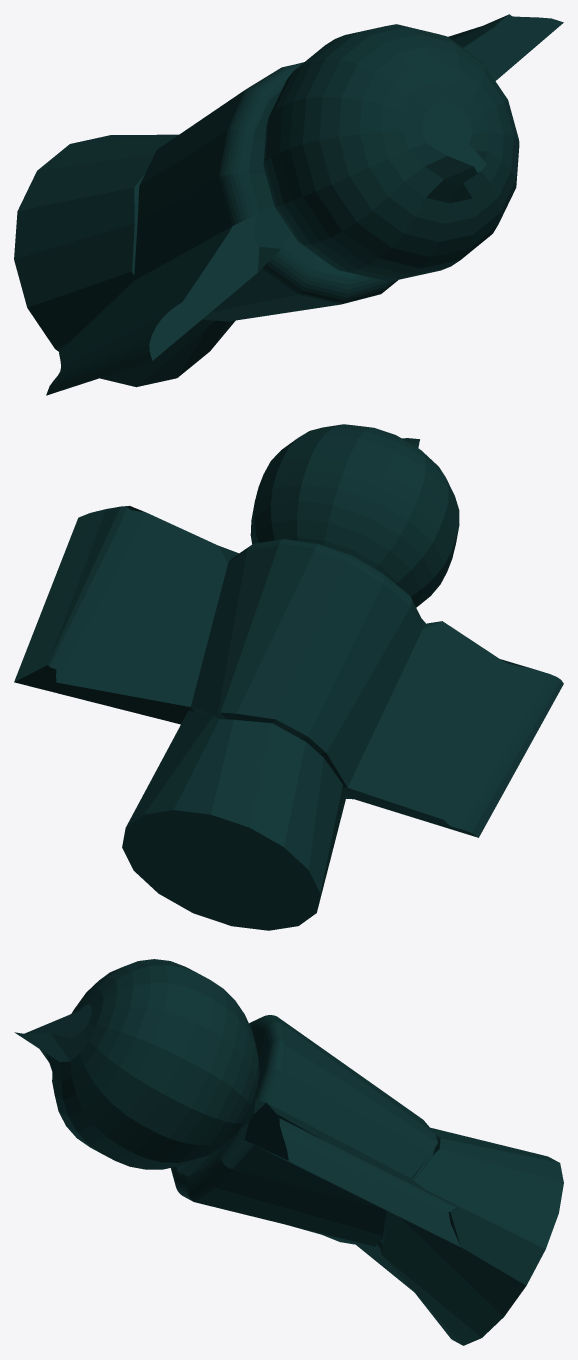
The model's file is fountain2.fbx.
3 renders of one model, top to bottom at view 1: azimuth 30°, elevation 25°; view 2: azimuth 150°, elevation 25°; view 3: azimuth 270°, elevation 25°, orthographic. The views are drawn at different scales.
Visible parts, largest first — view 1: Cylinder.001; view 2: Cylinder.001; view 3: Cylinder.001.
Part boxes in pixels (x1,y1,x2,y2): Cylinder.001: (14,14,563,395); Cylinder.001: (14,424,563,930); Cylinder.001: (14,959,563,1345).
Bounding box in the file's own units: 172 × 152 × 198.
